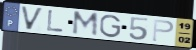5: (129, 17, 150, 42)
G: (99, 14, 123, 39)
L: (45, 9, 65, 34)
M: (71, 10, 100, 38)
P: (151, 18, 176, 43)
V: (20, 5, 46, 32)
